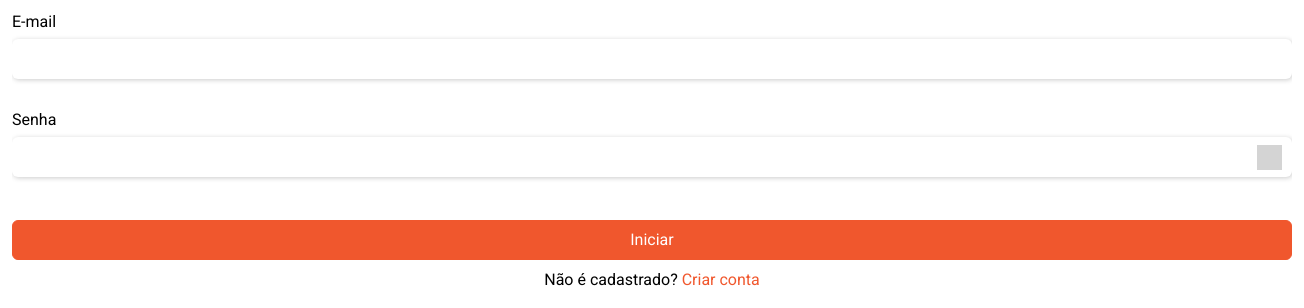
Test case: Form Login › should show error message when fields was empty
Click the button "Iniciar".
click(652, 240)  # box 12,220 -> 1292,260
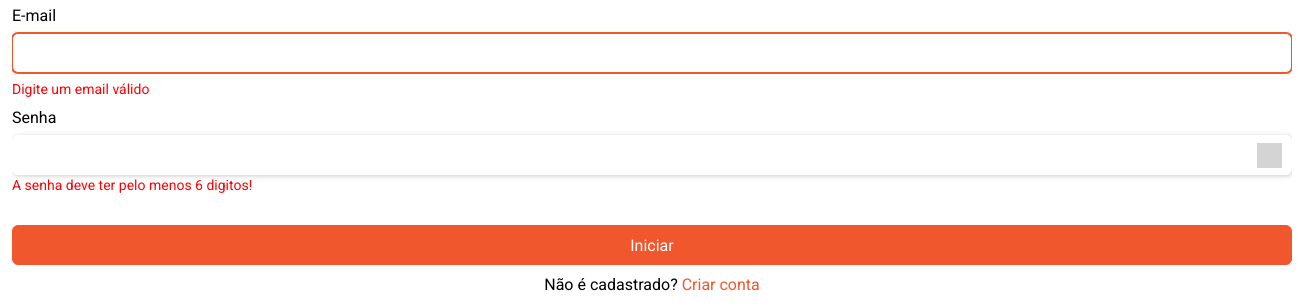
expect the field named "email" is shown: met, box 12,33 -> 1292,73
expect the text "Digite um email válido" is shown: met, box 12,81 -> 149,97
expect the text "A senha deve ter pelo menos 6 digitos!" is shown: met, box 12,177 -> 252,193
